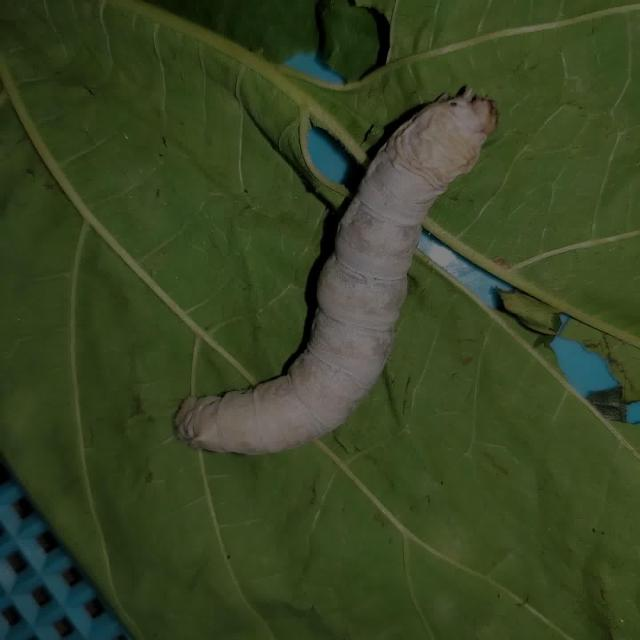Grasserie: (164, 73, 506, 478)
